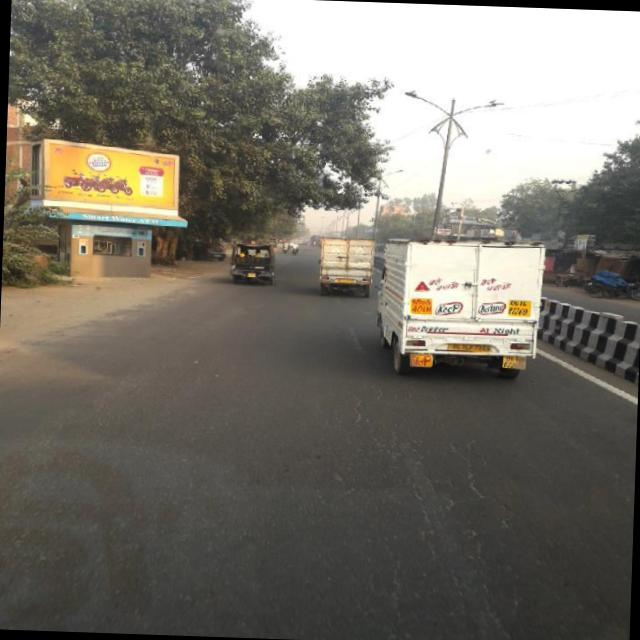crack: (319, 374, 565, 630)
